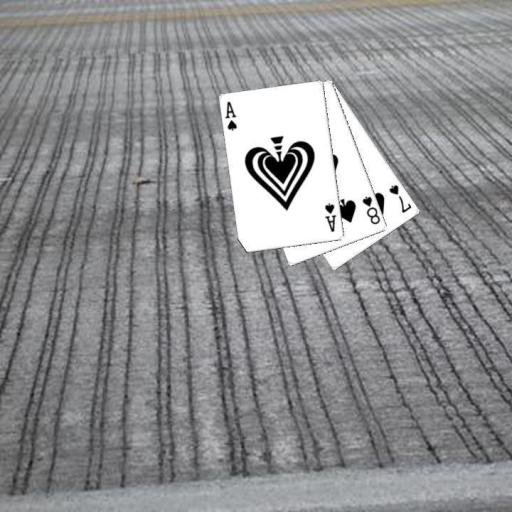card-corner: (386, 181, 413, 215), (359, 194, 382, 226), (223, 98, 239, 132), (322, 201, 338, 233)
